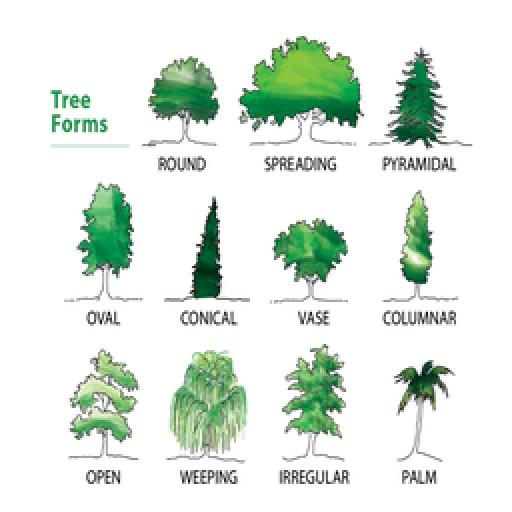trees: (238, 34, 364, 144), (168, 350, 250, 462), (280, 346, 350, 464), (68, 350, 140, 462), (78, 182, 136, 302), (390, 360, 454, 464), (146, 56, 220, 144), (272, 218, 348, 300), (388, 46, 448, 148), (398, 188, 436, 304), (188, 196, 226, 300)
